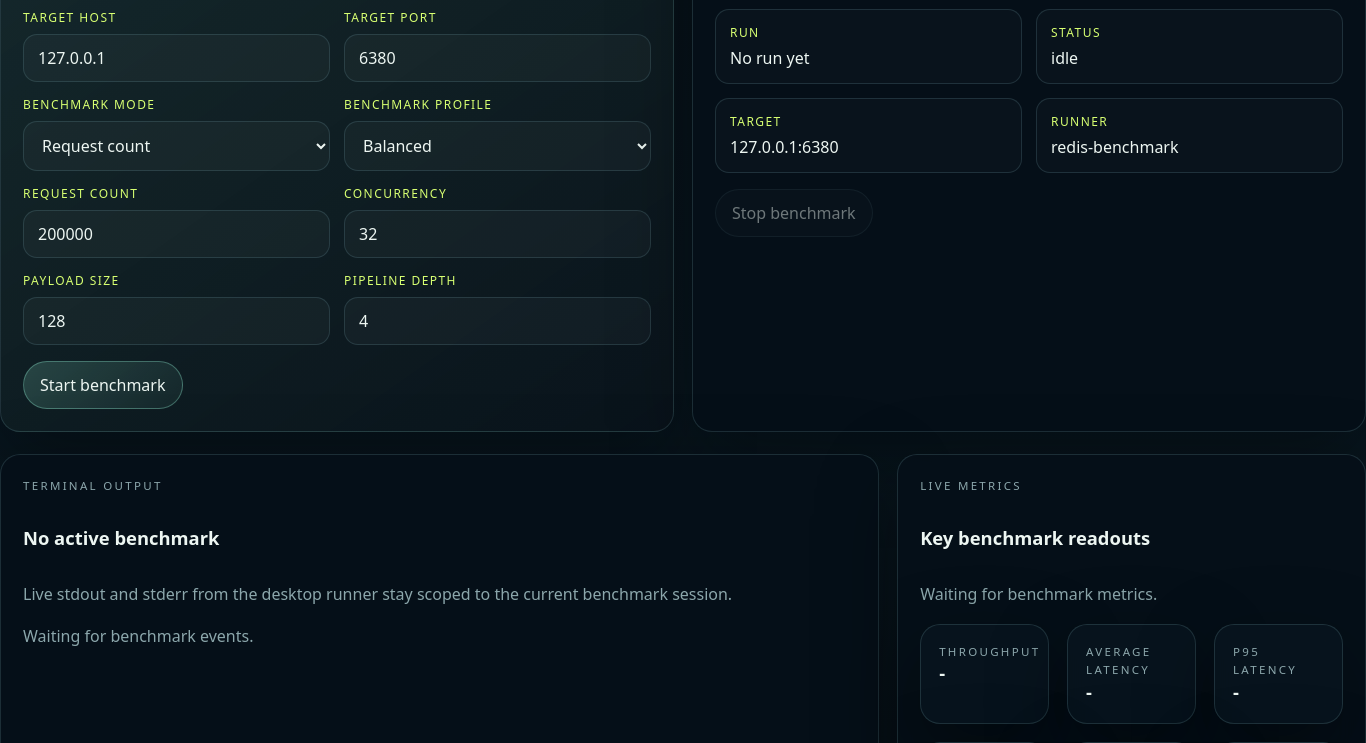
Test: benchmarks page › queues a follow-up refresh when benchmark events arrive during an in-flight detail load
(page scrolled)
Click the button "Start benchmark". click: (103, 385)
box: [23, 361, 182, 409]
(page scrolled)
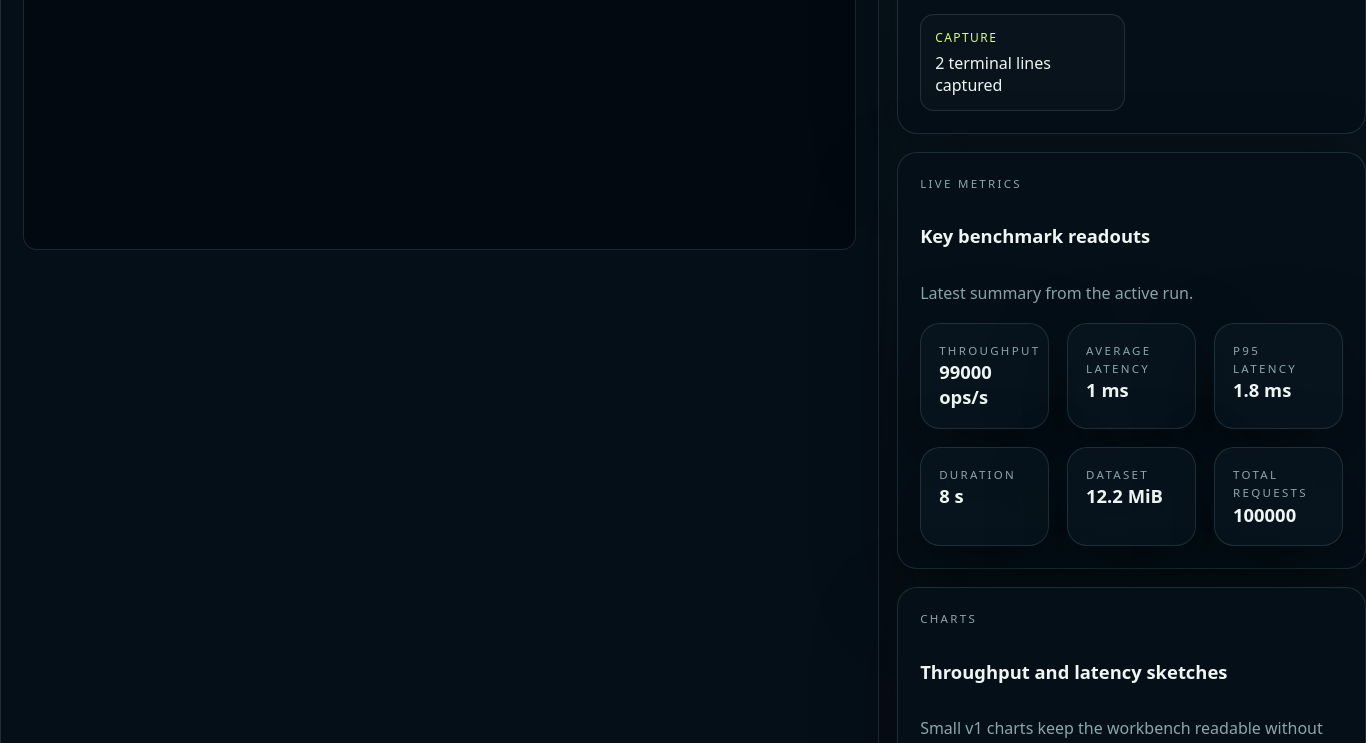
expect the text "99000 ops/s" is shown: met, box [939, 359, 992, 409]
